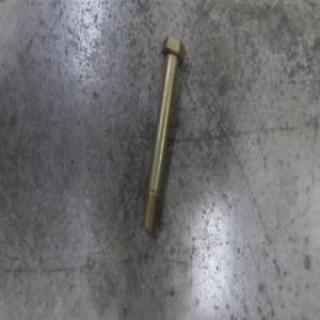Bolttrack_idkeyframe: (140, 35, 186, 234)
